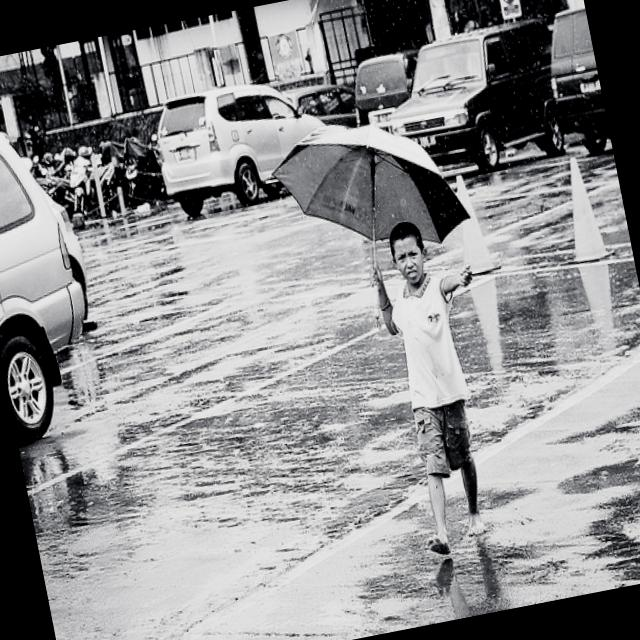Vehicle: (0, 121, 109, 450), (374, 13, 576, 185), (372, 18, 576, 188), (150, 66, 334, 223), (535, 2, 613, 160), (538, 5, 612, 157), (344, 46, 432, 128), (59, 146, 137, 224), (282, 77, 362, 142), (114, 131, 170, 207), (41, 146, 86, 210), (98, 138, 132, 176)
